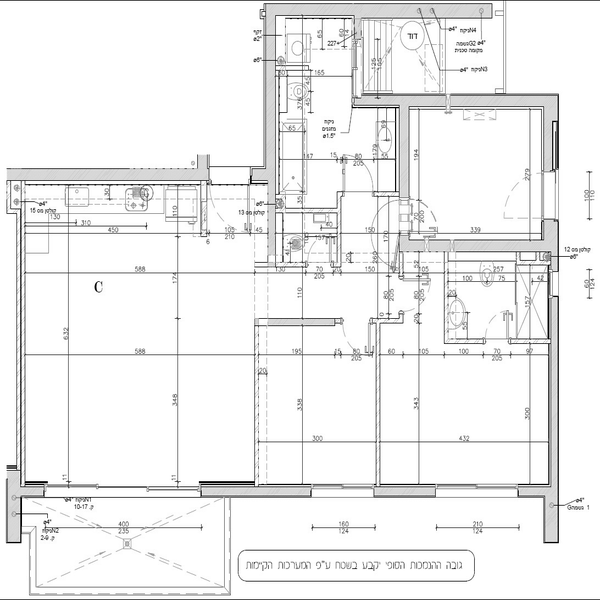room: (5, 148, 259, 502), (262, 242, 562, 498), (397, 89, 567, 257), (261, 4, 517, 106), (262, 93, 407, 257)
wall: (257, 3, 286, 269), (545, 298, 568, 548), (341, 90, 562, 114), (7, 162, 208, 188), (268, 1, 496, 23), (46, 480, 202, 499), (1, 470, 40, 544), (398, 238, 544, 257), (201, 480, 313, 504), (394, 102, 414, 209), (542, 94, 563, 175), (537, 216, 565, 272), (372, 480, 437, 504), (248, 314, 341, 330), (516, 480, 551, 500)
window: (437, 482, 515, 503), (315, 479, 372, 506), (213, 162, 250, 189), (540, 173, 560, 217)
